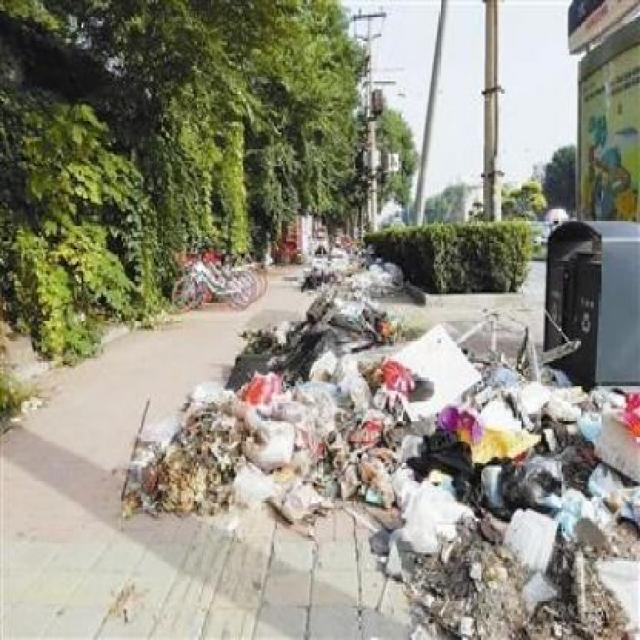garbage: (165, 386, 611, 529), (414, 496, 555, 622), (228, 298, 375, 384)
